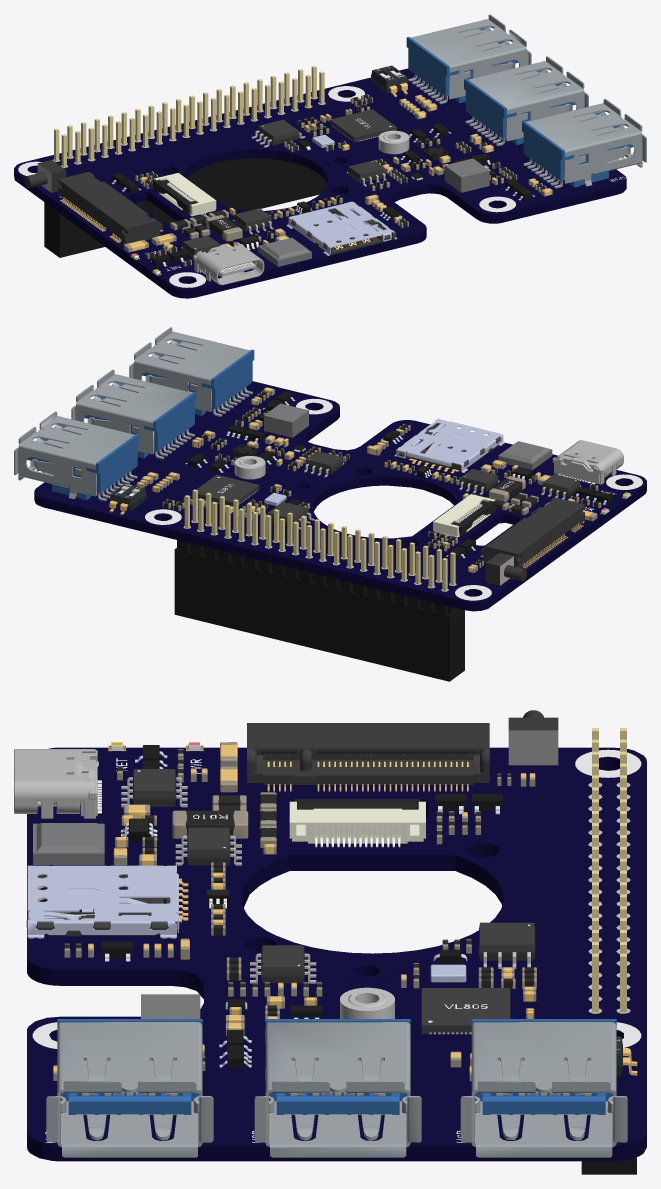
File: rpi_clean.glb
3 renders of one model, top to bottom at view 1: azimuth 30°, elevation 25°; view 2: azimuth 150°, elevation 25°; view 3: azimuth 270°, elevation 25°, orthographic. The views are drawn at different scales.
Visible parts, largest first — view 1: SOLID, pin1 (2), 40 pin header, Housing (2), SIM8083, Blacks (75), Blacks (75)002, 2199119-139, SIM8066, SMD inductor 4R7, COMPOUND, USB C002 (+5 smaller); view 2: SOLID, 40 pin header, pin1 (2), Housing (2), SIM8083, Blacks (75), Blacks (75)002, SIM8066, 2199119-139, COMPOUND, SMD inductor 4R7, USB C002 (+5 smaller); view 3: SOLID, pin1 (2), 2199119-139, SIM8083, SIM8066, Housing (2), Blacks (75), Blacks (75)002, USB C002, 40 pin header, SMD inductor 4R7, FPC-16 (+6 smaller).
Boxes of the visible parts, <box> form: SOLID: <box>14,68,626,298</box>; pin1 (2): <box>408,14,646,188</box>; 40 pin header: <box>44,65,327,257</box>; Housing (2): <box>406,27,633,187</box>; SIM8083: <box>182,109,396,257</box>; Blacks (75): <box>123,94,552,266</box>; Blacks (75)002: <box>128,94,551,266</box>; 2199119-139: <box>58,172,162,243</box>; SIM8066: <box>286,120,397,255</box>; SMD inductor 4R7: <box>258,158,489,266</box>; COMPOUND: <box>111,123,534,266</box>; USB C002: <box>193,242,264,285</box>; SOLID: <box>34,381,646,611</box>; 40 pin header: <box>174,489,464,681</box>; pin1 (2): <box>14,327,252,501</box>; Housing (2): <box>27,340,254,500</box>; SIM8083: <box>192,423,580,527</box>; Blacks (75): <box>136,387,601,572</box>; Blacks (75)002: <box>137,387,599,572</box>; SIM8066: <box>198,418,505,506</box>; 2199119-139: <box>481,497,585,567</box>; COMPOUND: <box>185,391,612,559</box>; SMD inductor 4R7: <box>264,403,552,470</box>; USB C002: <box>552,440,623,484</box>; SOLID: <box>27,747,646,1161</box>; pin1 (2): <box>46,1022,627,1157</box>; 2199119-139: <box>247,723,489,784</box>; SIM8083: <box>26,769,535,1033</box>; SIM8066: <box>27,865,486,1034</box>; Housing (2): <box>57,1019,616,1115</box>; Blacks (75): <box>53,742,536,1081</box>; Blacks (75)002: <box>53,744,535,1071</box>; USB C002: <box>14,749,97,818</box>; 40 pin header: <box>581,728,636,1174</box>; SMD inductor 4R7: <box>33,823,200,1018</box>; FPC-16: <box>289,801,425,843</box>.
Bounding box in the file's own units: 0.0906 × 0.0235 × 0.0572.
